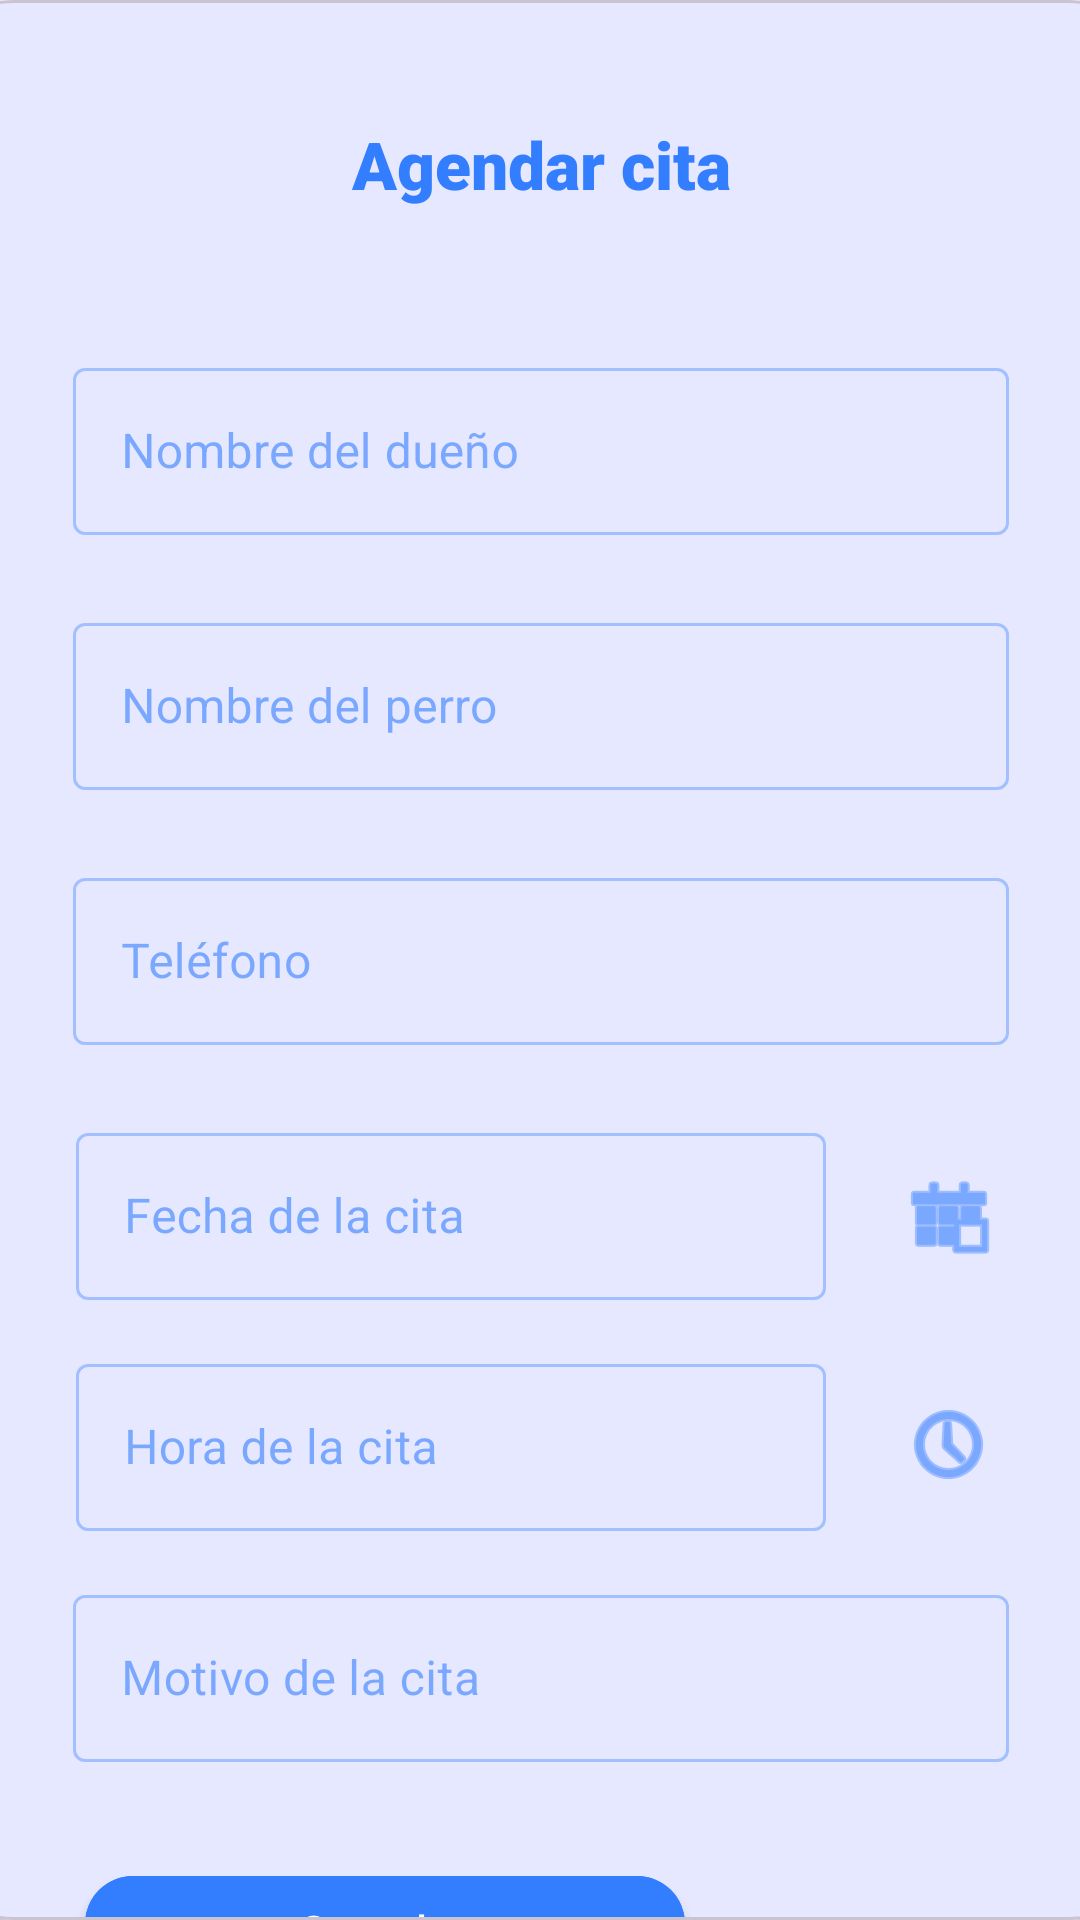

Screen size 1080 x 1920. Icon name, then its center in pixels as (x,y):
today: (950,1217)
